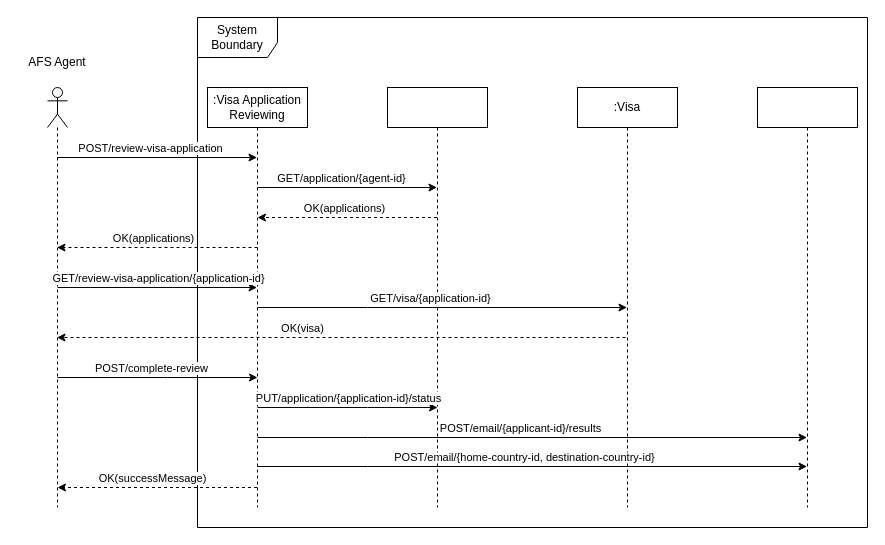
This 885x545 diagram has some shape labels left out. Each missing label, with the box of its shape:
:Application: (386, 86, 488, 508)
:Email: (756, 86, 858, 508)
